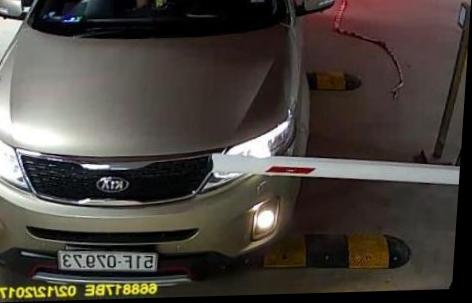License_Plate: (53, 247, 163, 277)
